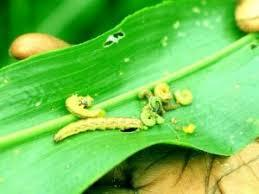fallarmy_worm: (48, 116, 165, 139), (59, 92, 104, 116)
